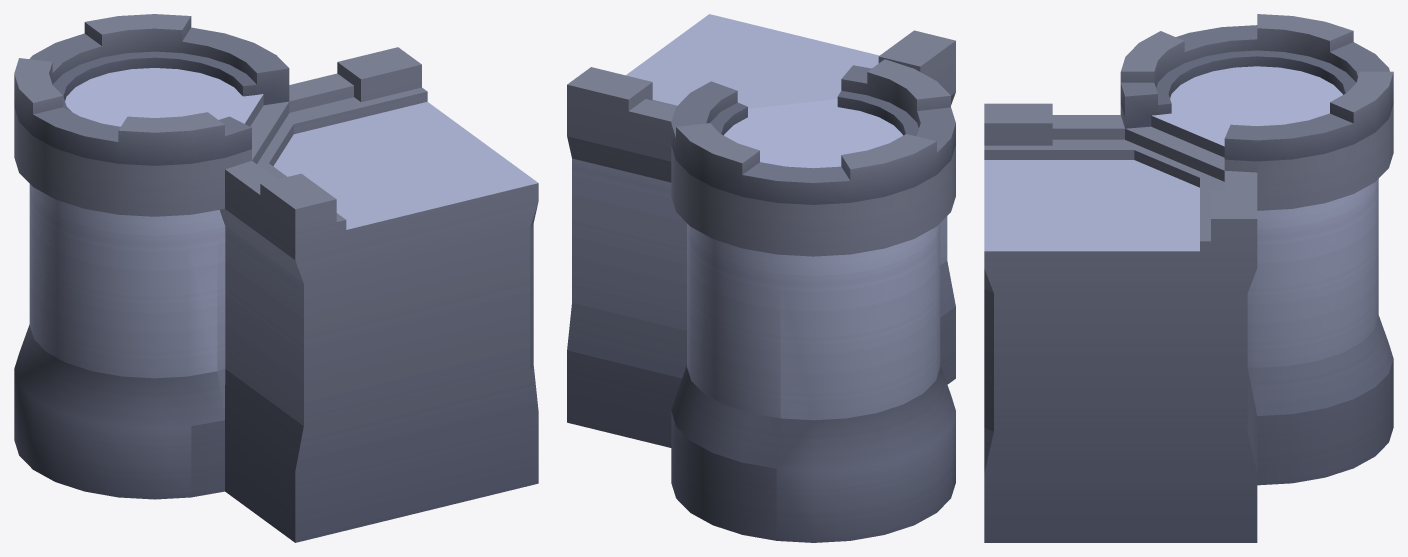
File: wall-corner-half-tower.fbx
3 views of the same model, side by side, from view 1: azimuth 30°, elevation 25°; view 2: azimuth 150°, elevation 25°; view 3: azimuth 270°, elevation 25° (orthographic). The views are drawn at different scales.
Visible parts, largest first — view 1: wall-corner-half-tower; view 2: wall-corner-half-tower; view 3: wall-corner-half-tower.
Boxes of the visible parts, x1=… form: wall-corner-half-tower: x1=14, y1=14, x2=538, y2=542; wall-corner-half-tower: x1=567, y1=14, x2=955, y2=542; wall-corner-half-tower: x1=984, y1=14, x2=1393, y2=542.
Bounding box in the file's own units: 1.5 × 1.5 × 1.44.
